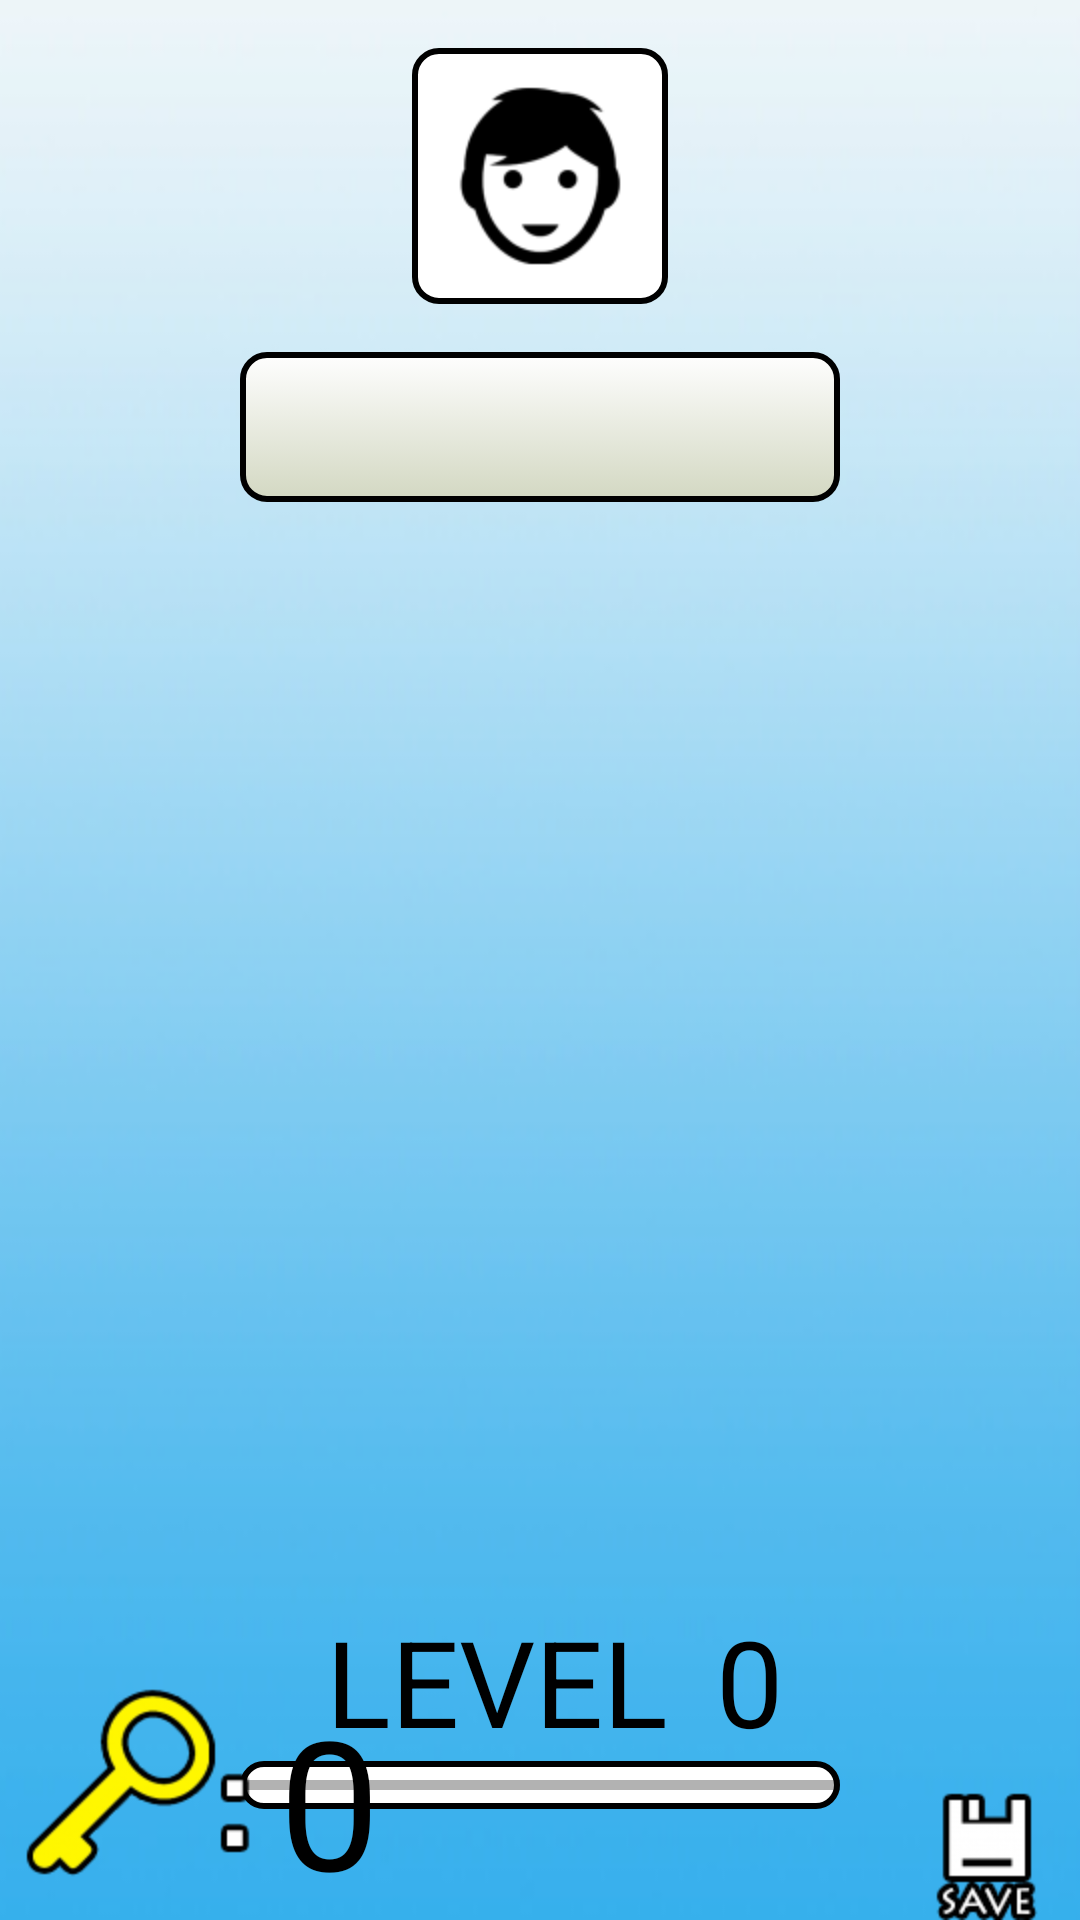

Locate icon controls on the screen. Image size 1080px×1920px, boxes as (x1, y1, x2, y2).
key: (26, 1689, 250, 1876)
